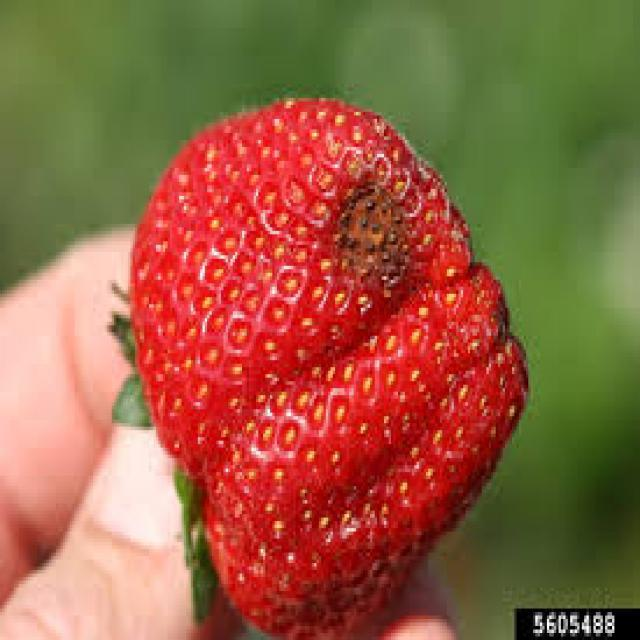Mancha negra Antracnosis: (103, 92, 538, 622)
